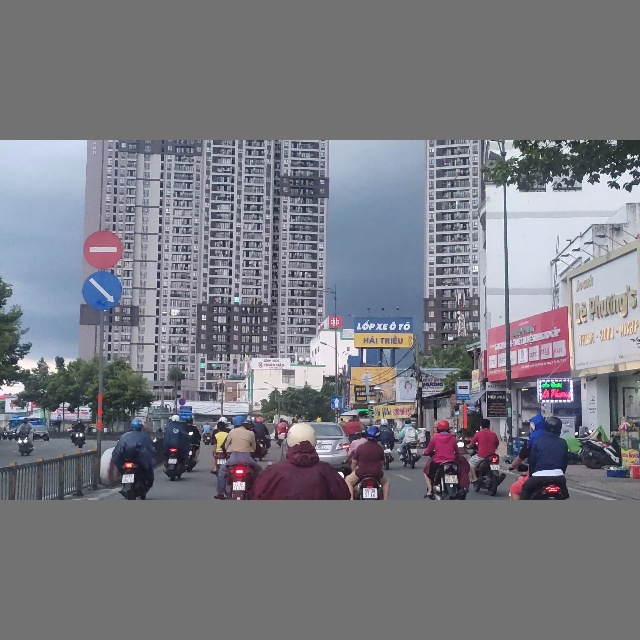I.407a: (331, 396, 343, 408)
I.434a: (456, 381, 470, 400)
P.102: (83, 229, 124, 271)
R.302a: (81, 269, 124, 310)
